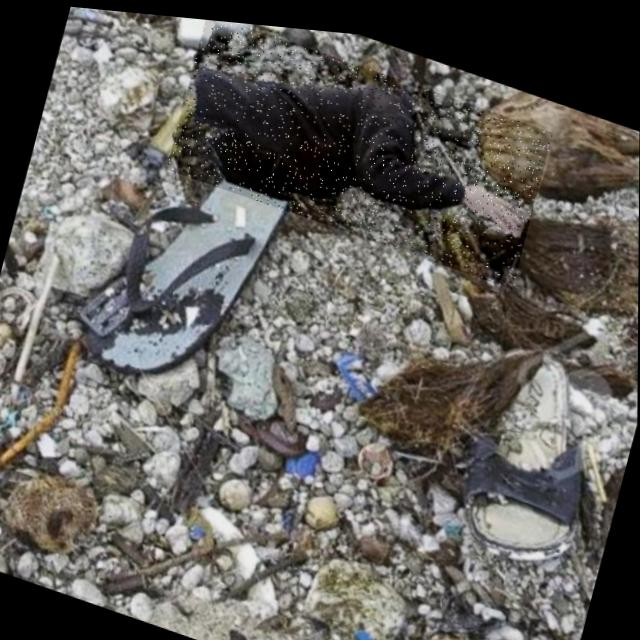Person in Rubble: (166, 13, 553, 281)
